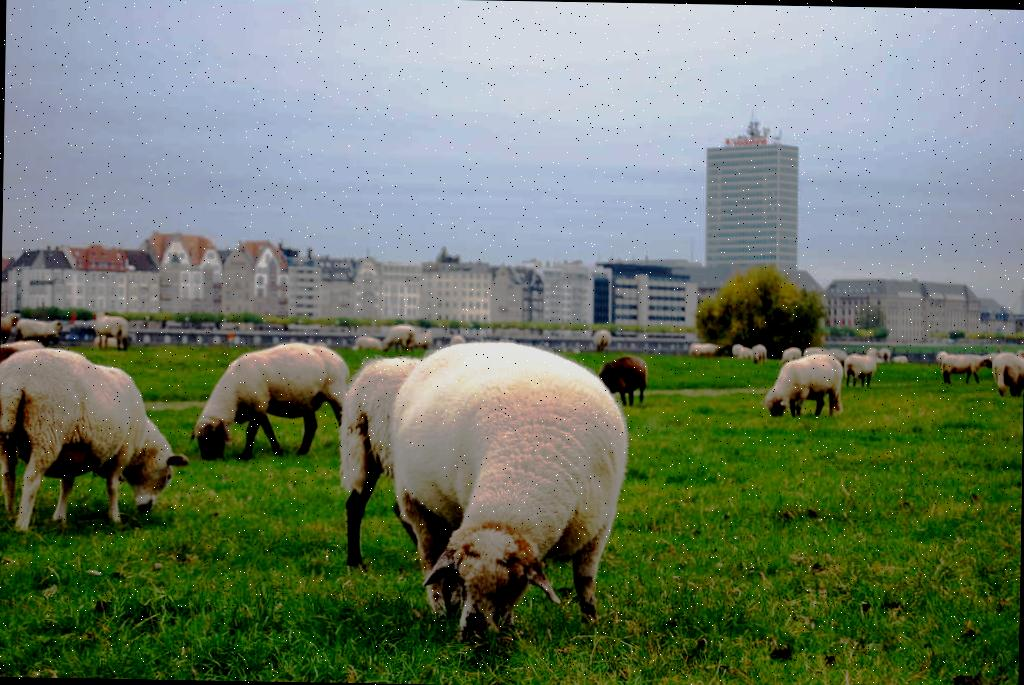Sheep: (398, 339, 646, 653), (0, 347, 188, 534), (196, 336, 354, 475), (340, 345, 420, 569), (756, 336, 860, 433), (937, 348, 991, 384), (987, 346, 1023, 398)
